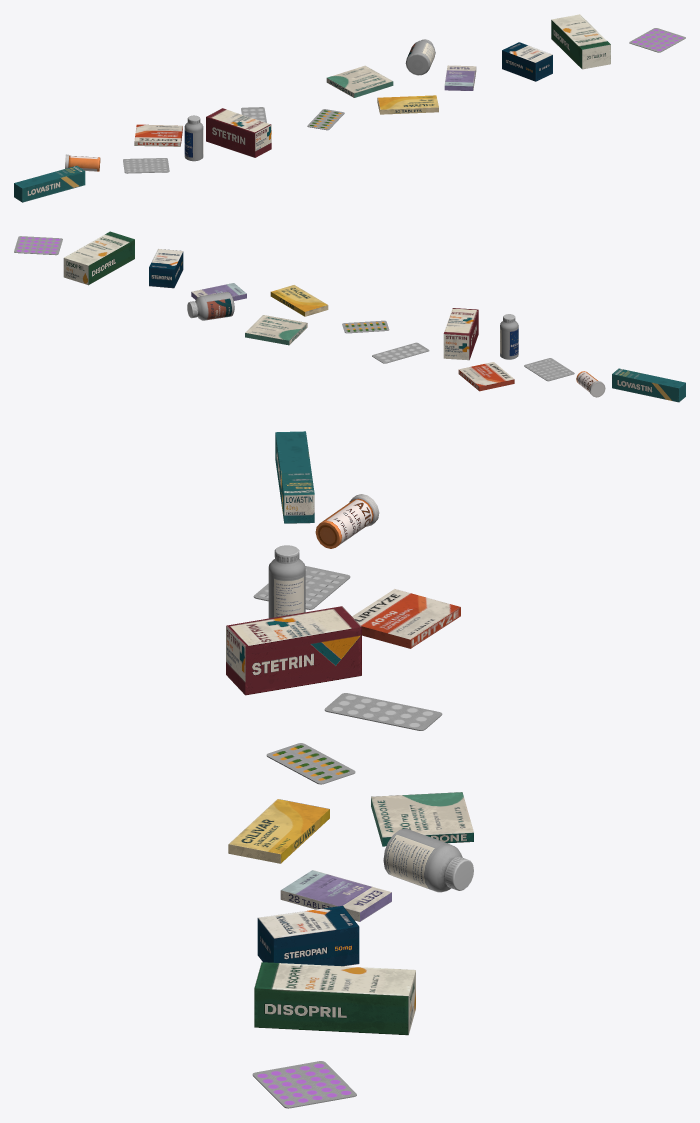
Rendered from HH_Drug_Packaging_Kit_04.fbx.
3 views of the same model, one above another, from view 1: azimuth 30°, elevation 25°; view 2: azimuth 150°, elevation 25°; view 3: azimuth 270°, elevation 25° (orthographic). The views are drawn at different scales.
Parts seen in each view (by area): view 1: HH_Drug_Packaging_Kit_04_LOD0; view 2: HH_Drug_Packaging_Kit_04_LOD0; view 3: HH_Drug_Packaging_Kit_04_LOD0.
Part boxes in pixels (bbox=[...]): HH_Drug_Packaging_Kit_04_LOD0: bbox=[14, 14, 685, 202]; HH_Drug_Packaging_Kit_04_LOD0: bbox=[14, 231, 685, 402]; HH_Drug_Packaging_Kit_04_LOD0: bbox=[226, 431, 473, 1108].
Size of what is drawn, in the model's own units: 261 by 15.04 by 42.15.
